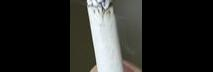Cigarette: (82, 0, 134, 72)
